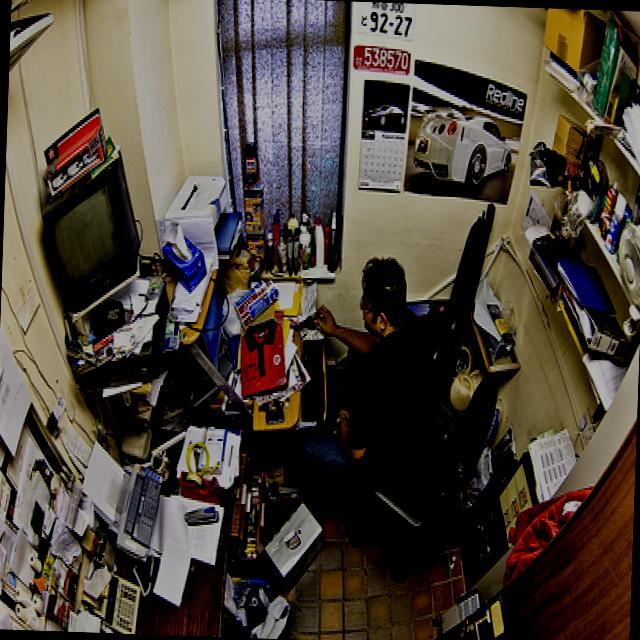Vehicle: (412, 108, 512, 187)
